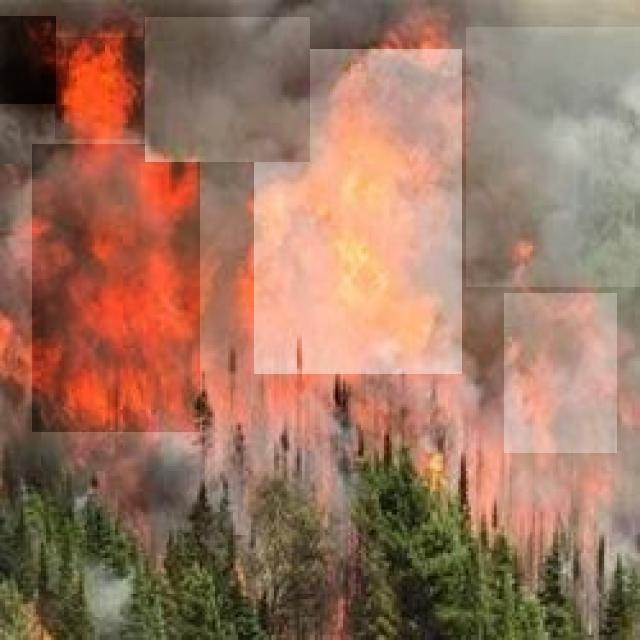Fire: (255, 49, 462, 374), (32, 144, 200, 432), (504, 294, 617, 454), (55, 37, 144, 139)
Smoke: (466, 27, 640, 287), (145, 17, 310, 162), (0, 16, 56, 104)
